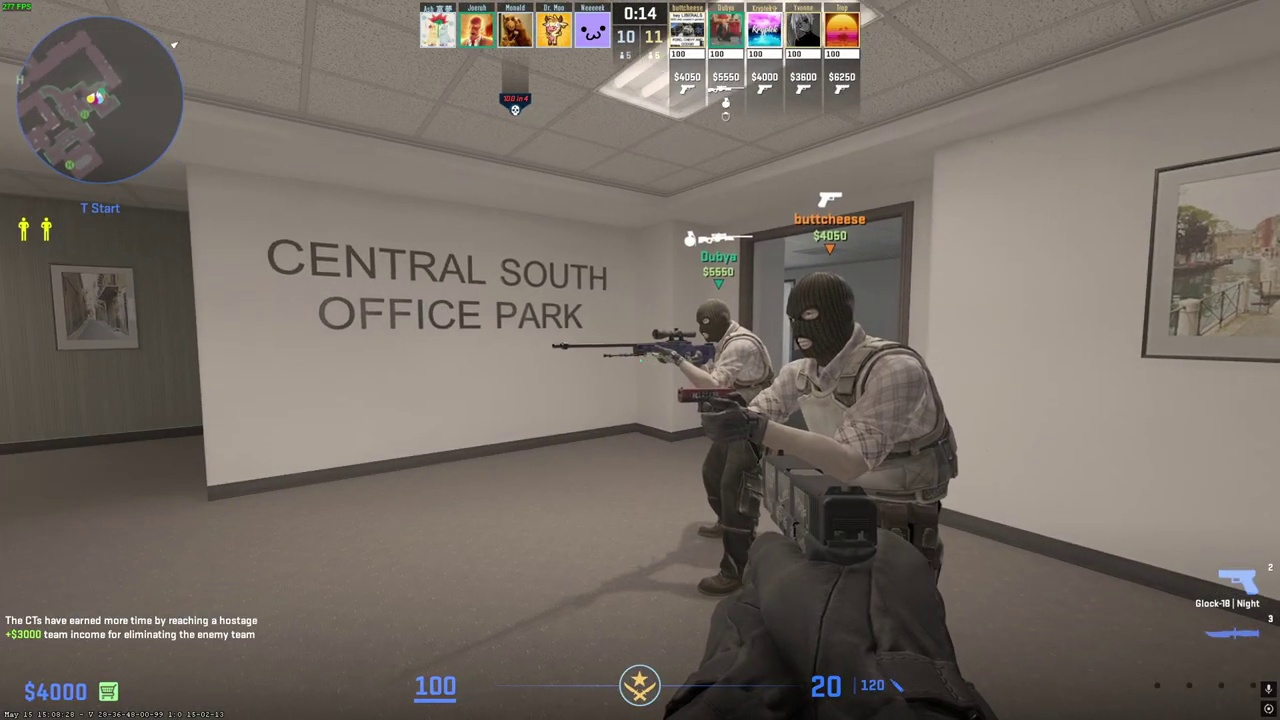Terrorist: (762, 270, 959, 575), (683, 300, 783, 594)
